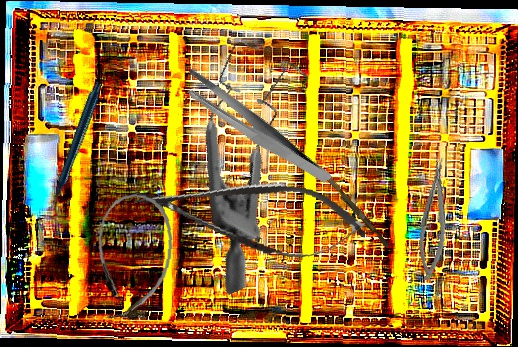Cannula: (89, 189, 178, 325)
Dressing Forceps: (177, 43, 333, 214)
Handpiece: (1, 79, 143, 213)
Micro Scissor: (128, 160, 372, 271)
Needle Holder: (413, 156, 456, 282)
Pusher: (309, 159, 392, 249)
Speculum: (131, 21, 378, 297)
